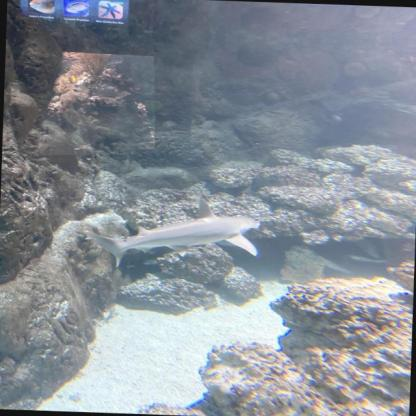shark: (82, 195, 259, 272)
